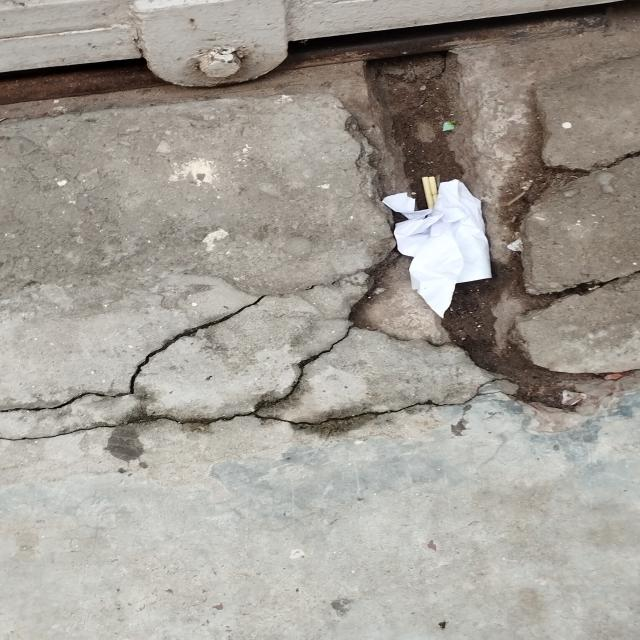paper: (384, 176, 496, 315)
